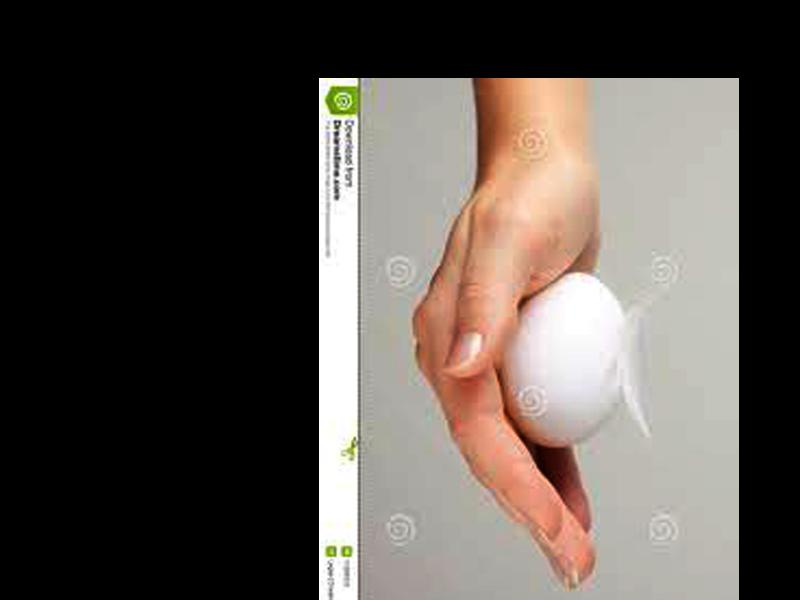Eggs: (501, 270, 623, 450)
